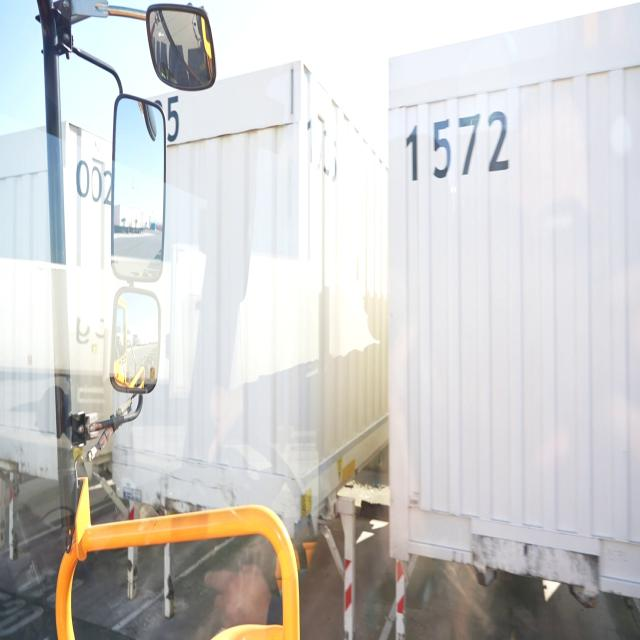Code: (402, 99, 522, 194)
